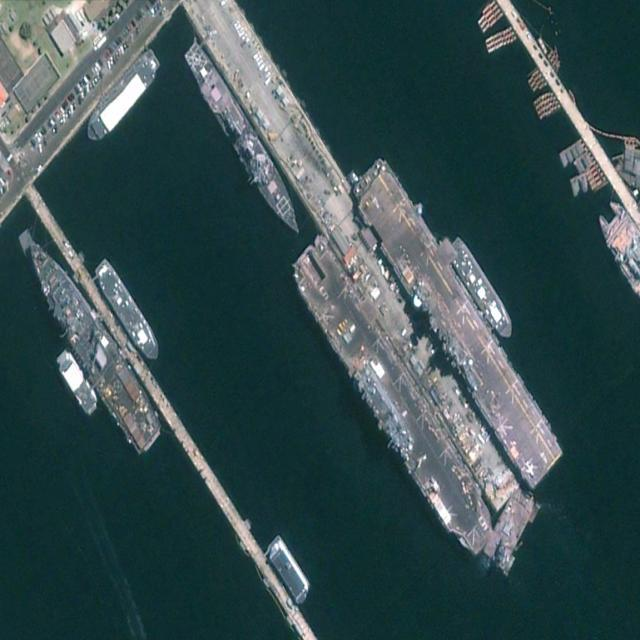Destroyer: (180, 37, 309, 243)
Landing: (347, 150, 567, 494), (285, 231, 502, 567)
Other Ship: (81, 43, 165, 150), (91, 253, 164, 370), (444, 233, 518, 345), (91, 254, 163, 369), (263, 532, 315, 612), (53, 345, 103, 422)
Other Warship: (14, 228, 167, 460)
